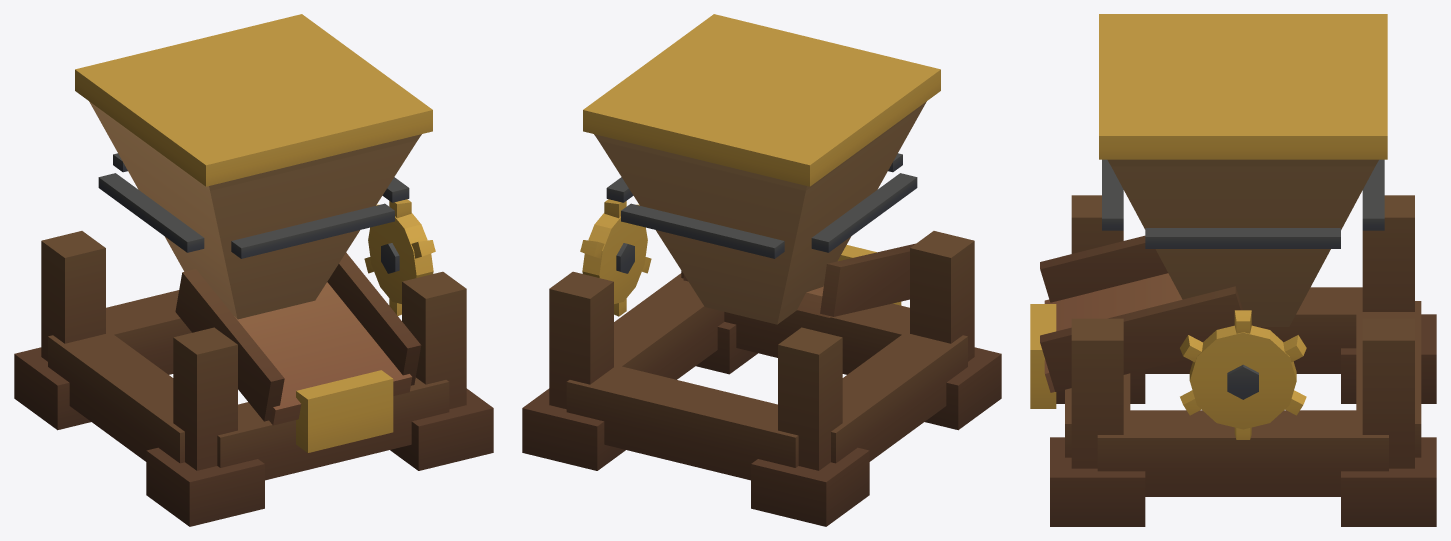
The model's file is logi_input_hopper.glb.
3 views of the same model, side by side, from view 1: azimuth 30°, elevation 25°; view 2: azimuth 150°, elevation 25°; view 3: azimuth 270°, elevation 25° (orthographic). The views are drawn at different scales.
Visible parts, largest first — view 1: logi_input_hopper; view 2: logi_input_hopper; view 3: logi_input_hopper.
Part boxes in pixels (x1,y1,x2,y2): logi_input_hopper: (14,14,493,526); logi_input_hopper: (522,14,1001,526); logi_input_hopper: (1030,14,1436,526).
Bounding box in the file's own units: 1.82 × 1.88 × 1.87.
Materials: 1 (1 with a texture image).
